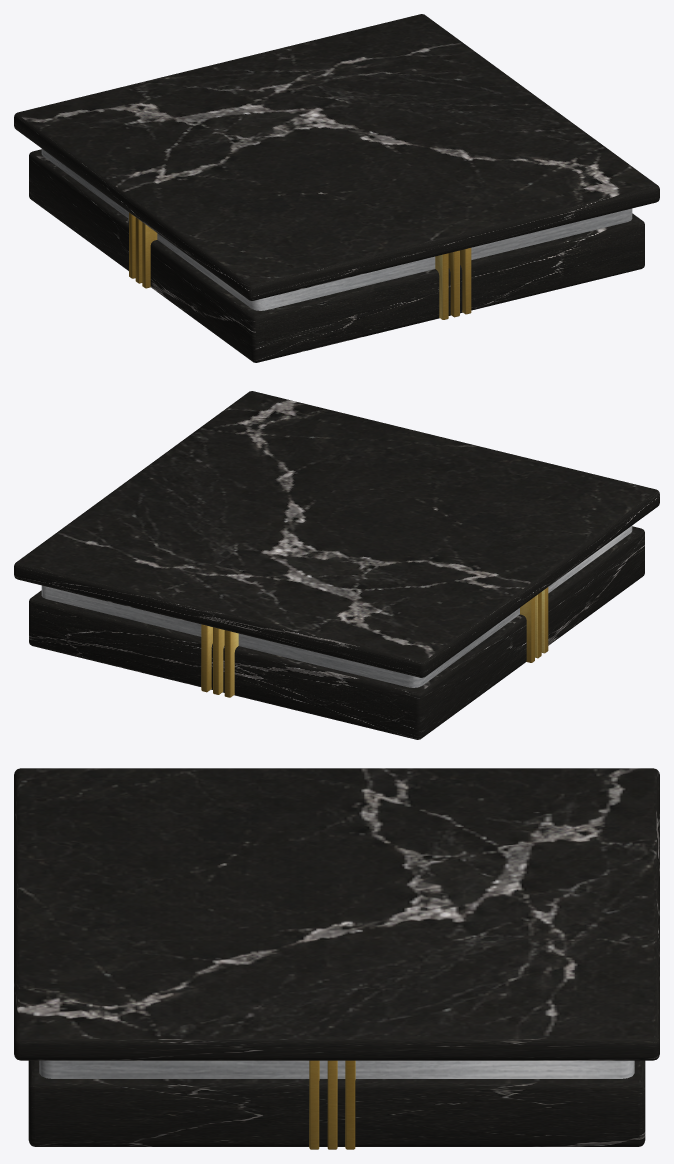
The model's file is Table_modern.fbx.
3 views of the same model, one above another, from view 1: azimuth 30°, elevation 25°; view 2: azimuth 150°, elevation 25°; view 3: azimuth 270°, elevation 25° (orthographic). The views are drawn at different scales.
Parts seen in each view (by area): view 1: MIDDLE_FRAME, MIDDLE_FRAME.001, LOWER_BASE, FRONT_DECORATIVE_LINE_2.012, FRONT_DECORATIVE_LINE_2.013, FRONT_DECORATIVE_LINE_2.009, FRONT_DECORATIVE_LINE_2.004, FRONT_DECORATIVE_LINE_2.007; view 2: MIDDLE_FRAME, MIDDLE_FRAME.001, LOWER_BASE, FRONT_DECORATIVE_LINE_2.010, FRONT_DECORATIVE_LINE_2.008, FRONT_DECORATIVE_LINE_2.011, FRONT_DECORATIVE_LINE_2.005, FRONT_DECORATIVE_LINE_2.004; view 3: MIDDLE_FRAME, MIDDLE_FRAME.001, LOWER_BASE, FRONT_DECORATIVE_LINE_2.002, FRONT_DECORATIVE_LINE_2.003, FRONT_DECORATIVE_LINE_2.001.
Part boxes in pixels (x1=…): MIDDLE_FRAME: x1=14, y1=14, x2=659, y2=300; MIDDLE_FRAME.001: x1=29, y1=149, x2=644, y2=362; LOWER_BASE: x1=41, y1=148, x2=632, y2=310; FRONT_DECORATIVE_LINE_2.012: x1=435, y1=253, x2=448, y2=319; FRONT_DECORATIVE_LINE_2.013: x1=460, y1=248, x2=471, y2=314; FRONT_DECORATIVE_LINE_2.009: x1=448, y1=250, x2=459, y2=317; FRONT_DECORATIVE_LINE_2.004: x1=142, y1=222, x2=157, y2=288; FRONT_DECORATIVE_LINE_2.007: x1=135, y1=217, x2=142, y2=283; MIDDLE_FRAME: x1=14, y1=391, x2=659, y2=677; MIDDLE_FRAME.001: x1=29, y1=526, x2=644, y2=739; LOWER_BASE: x1=41, y1=525, x2=632, y2=687; FRONT_DECORATIVE_LINE_2.010: x1=224, y1=630, x2=238, y2=697; FRONT_DECORATIVE_LINE_2.008: x1=201, y1=624, x2=212, y2=692; FRONT_DECORATIVE_LINE_2.011: x1=213, y1=627, x2=224, y2=694; FRONT_DECORATIVE_LINE_2.005: x1=520, y1=597, x2=534, y2=662; FRONT_DECORATIVE_LINE_2.004: x1=541, y1=587, x2=548, y2=653; MIDDLE_FRAME: x1=14, y1=768, x2=659, y2=1060; MIDDLE_FRAME.001: x1=28, y1=1060, x2=645, y2=1146; LOWER_BASE: x1=39, y1=1060, x2=634, y2=1078; FRONT_DECORATIVE_LINE_2.002: x1=345, y1=1060, x2=355, y2=1149; FRONT_DECORATIVE_LINE_2.003: x1=309, y1=1060, x2=319, y2=1149; FRONT_DECORATIVE_LINE_2.001: x1=327, y1=1060, x2=337, y2=1149.
Bounding box in the file's own units: 117 × 23.29 × 117.
15 materials, 15 textured.
